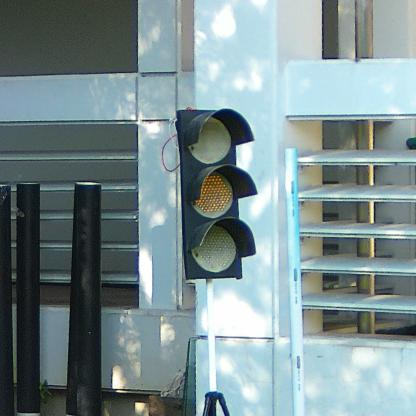yellow: (175, 107, 258, 281)
